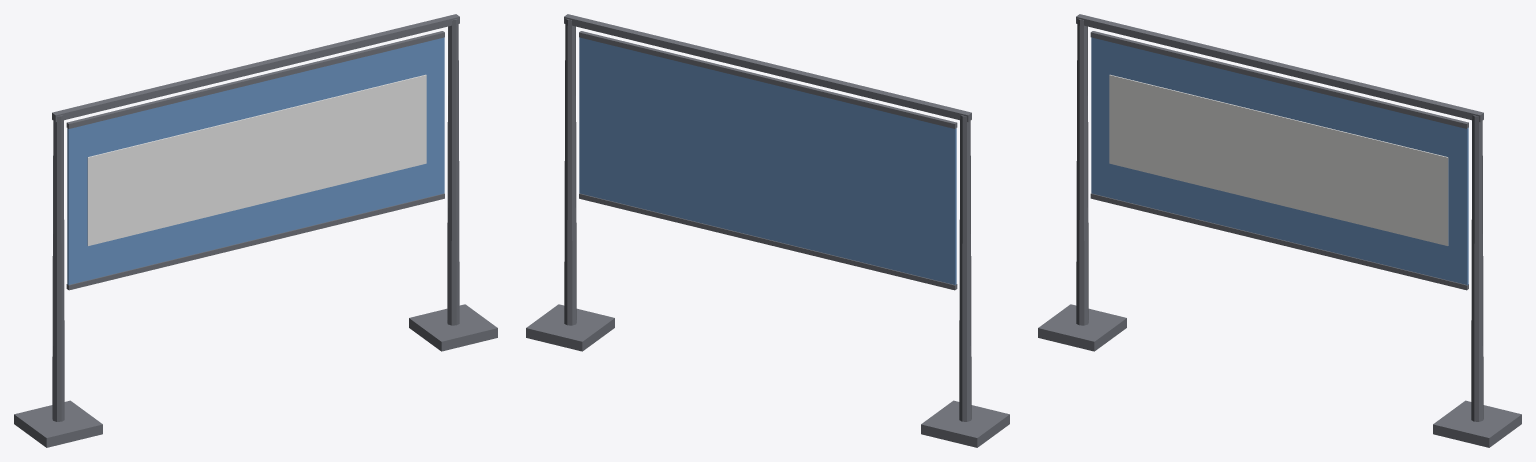
The model's file is event_banner.glb.
3 views of the same model, side by side, from view 1: azimuth 30°, elevation 25°; view 2: azimuth 150°, elevation 25°; view 3: azimuth 330°, elevation 25° (orthographic).
Visible parts, largest first — view 1: event-banner; view 2: event-banner; view 3: event-banner.
Boxes of the visible parts, <box> form: event-banner: <box>14,14,497,447</box>; event-banner: <box>526,14,1009,447</box>; event-banner: <box>1038,14,1521,447</box>.
Bounding box in the file's own units: 4.8 × 3.21 × 0.6.
